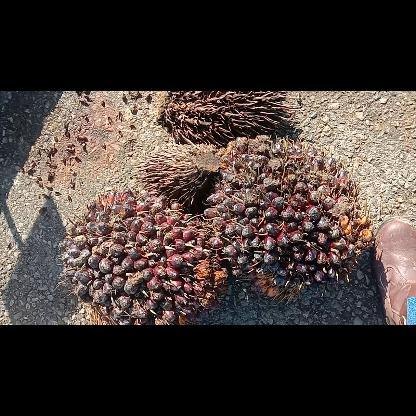Janjang kosong: (158, 91, 300, 143), (132, 136, 218, 204)
TBS mentah: (204, 134, 374, 304), (58, 188, 226, 324)
